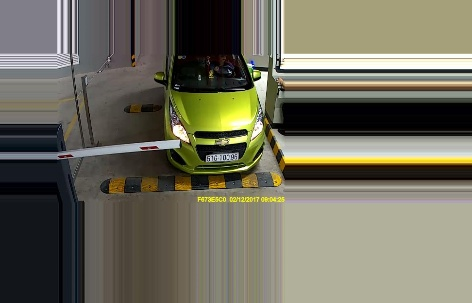plate: (203, 149, 240, 165)
